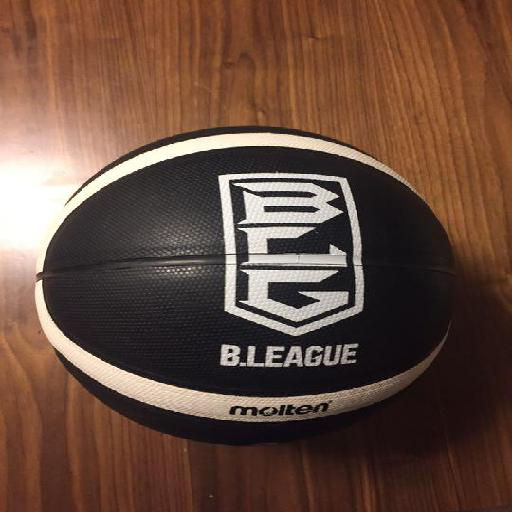ball: (34, 126, 455, 447)
